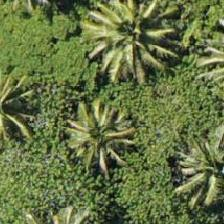coconut_tree: (48, 92, 138, 182), (91, 0, 181, 77), (170, 117, 223, 207), (0, 58, 47, 148)
